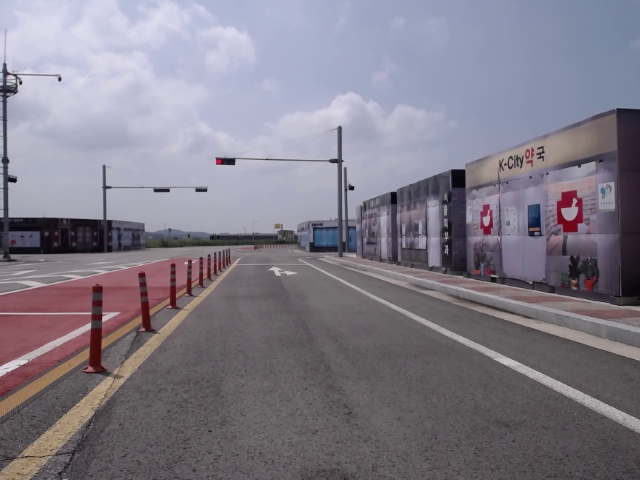red_3: (216, 158, 235, 165)
